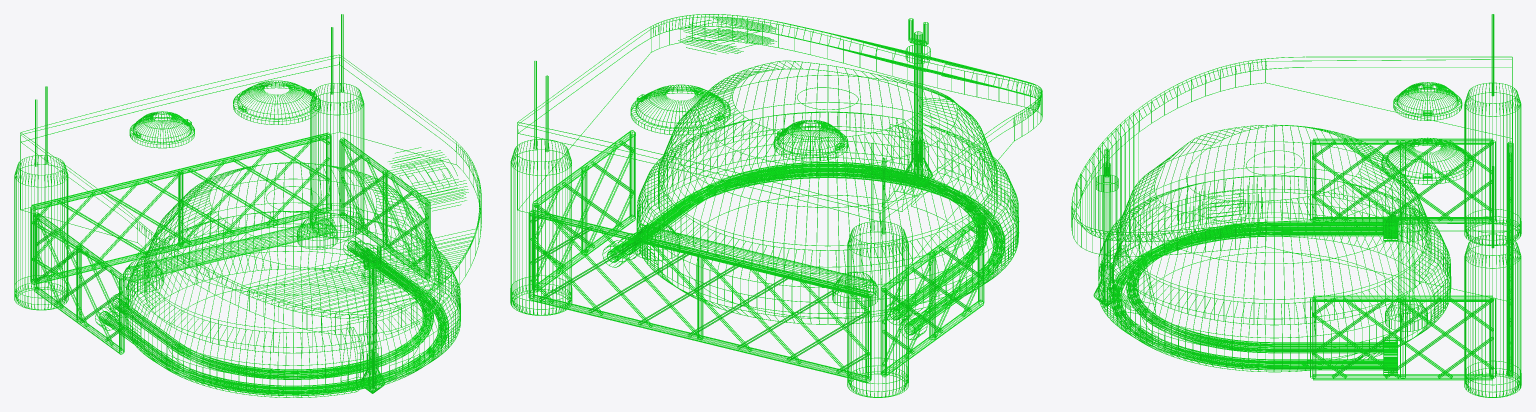
File: seismic-penetrator-wireframe.glb
3 renders of one model, left to right at view 1: azimuth 30°, elevation 25°; view 2: azimuth 150°, elevation 25°; view 3: azimuth 270°, elevation 25°, orthographic. The views are drawn at different scales.
Visible parts, largest first — view 1: chassis technical wire, ore-slurry-recovery-pipes technical wire, control-computers-and-antennae technical wire, shaft-head-drive technical wire; view 2: chassis technical wire, ore-slurry-recovery-pipes technical wire, control-computers-and-antennae technical wire, shaft-head-drive technical wire; view 3: chassis technical wire, ore-slurry-recovery-pipes technical wire, control-computers-and-antennae technical wire, shaft-head-drive technical wire.
Boxes of the visible parts, x1,y1,x2,y2 form: chassis technical wire: (14,54,481,397); ore-slurry-recovery-pipes technical wire: (95,236,448,396); control-computers-and-antennae technical wire: (35,14,343,166); shaft-head-drive technical wire: (360,245,385,393); chassis technical wire: (510,14,1042,397); ore-slurry-recovery-pipes technical wire: (602,161,1004,339); control-computers-and-antennae technical wire: (534,61,885,234); shaft-head-drive technical wire: (905,18,932,186); chassis technical wire: (1071,56,1521,397); ore-slurry-recovery-pipes technical wire: (1110,216,1397,375); control-computers-and-antennae technical wire: (1381,14,1494,248); shaft-head-drive technical wire: (1093,148,1120,306).
Size of the model in its own units: 2.37 by 1.4 by 2.55.
